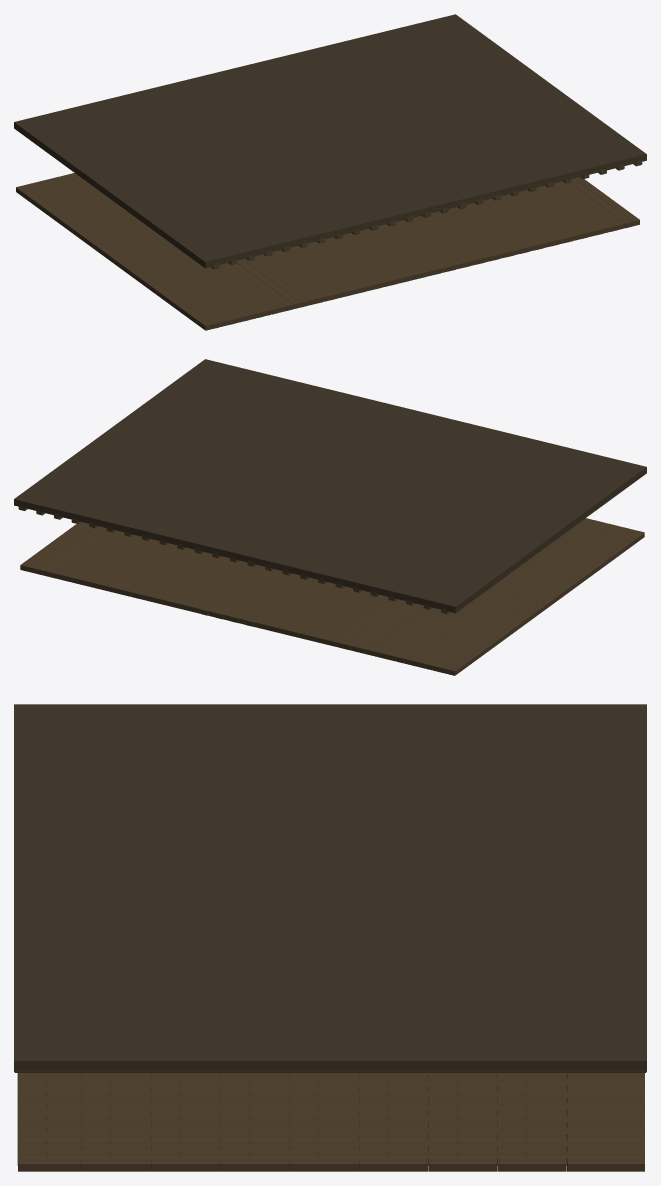
Rendered from NoBox1.fbx.
The picture shows the model from 3 angles, top to bottom: view 1: azimuth 30°, elevation 25°; view 2: azimuth 150°, elevation 25°; view 3: azimuth 270°, elevation 25°; orthographic projection. The views are drawn at different scales.
Parts seen in each view (by area): view 1: pCube4278, pCube3690.001; view 2: pCube4278, pCube3690.001; view 3: pCube4278, pCube3690.001, pCube3700, pCube3701, pCube3702, pCube3705, pCube3707, pCube3706, pCube3704, pCube3703, pCube3708.
Part boxes in pixels (x1,y1,x2,y2): pCube4278: [14, 14, 646, 269]; pCube3690.001: [24, 173, 637, 328]; pCube4278: [14, 359, 646, 614]; pCube3690.001: [20, 518, 634, 675]; pCube4278: [14, 704, 646, 1072]; pCube3690.001: [17, 1073, 644, 1171]; pCube3700: [567, 1158, 644, 1171]; pCube3701: [497, 1158, 566, 1171]; pCube3702: [428, 1158, 497, 1171]; pCube3705: [220, 1158, 289, 1171]; pCube3707: [81, 1158, 150, 1171]; pCube3706: [151, 1158, 220, 1171]; pCube3704: [289, 1158, 358, 1171]; pCube3703: [359, 1158, 427, 1171]; pCube3708: [18, 1158, 81, 1171].
Bounding box in the file's own units: 104 × 15.8 × 78.28.
